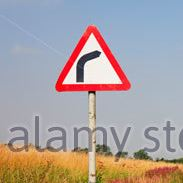Bend_to_right: (53, 22, 134, 96)
